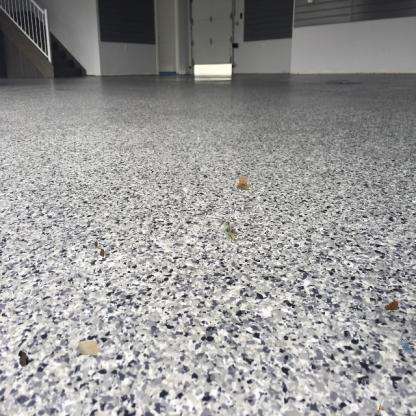dirty: (221, 220, 240, 244), (76, 340, 101, 358), (92, 238, 110, 260), (234, 174, 253, 192), (383, 298, 401, 313), (375, 396, 386, 416)
liquid: (398, 338, 416, 356), (18, 350, 28, 366)
